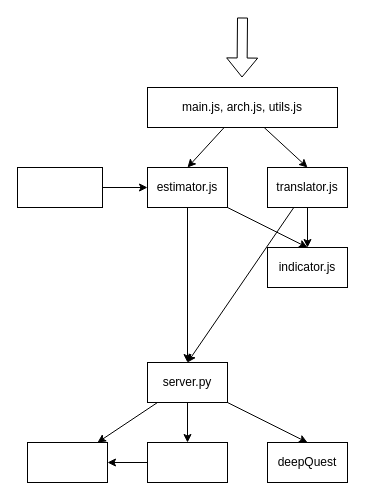
The diagram is 365 pixels wide and 500 high, and some of its shapes have lost their labels. Each missing label, with the centre of its shape:
"fast_align" goes at point (67, 462).
"highligh-within-textarea" goes at point (59, 187).
"QuEst++" goes at point (187, 462).
